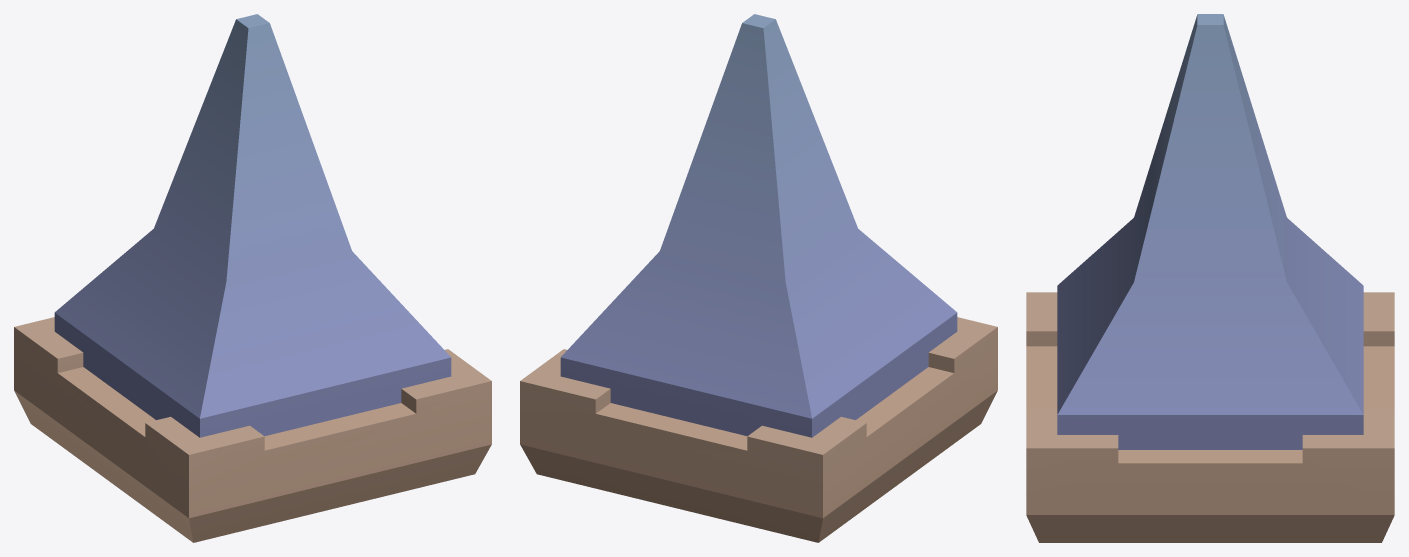
File: tower-square-top-roof-high.glb
3 renders of one model, left to right at view 1: azimuth 30°, elevation 25°; view 2: azimuth 150°, elevation 25°; view 3: azimuth 270°, elevation 25°, orthographic. The views are drawn at different scales.
Parts seen in each view (by area): view 1: tower-square-top-roof-high; view 2: tower-square-top-roof-high; view 3: tower-square-top-roof-high.
Part boxes in pixels (x1,y1,x2,y2): tower-square-top-roof-high: (14, 14, 491, 542); tower-square-top-roof-high: (520, 14, 997, 542); tower-square-top-roof-high: (1026, 14, 1394, 542).
Size of the model in its own units: 1 by 1.35 by 1.
